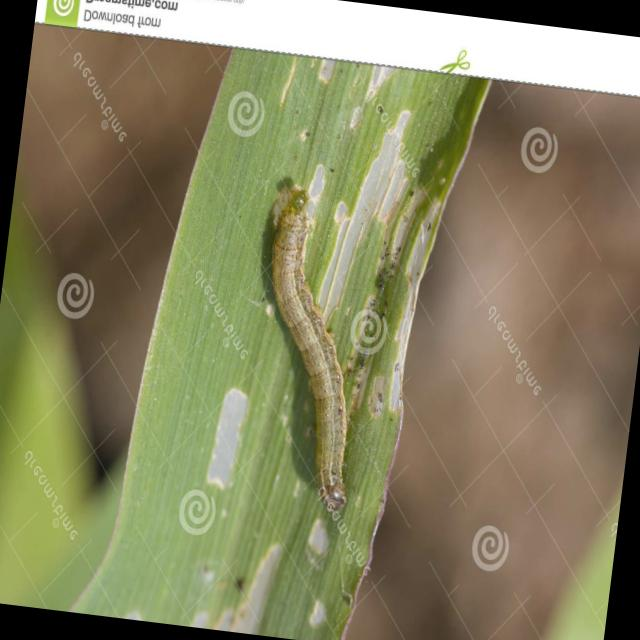pest: (246, 188, 384, 526)
